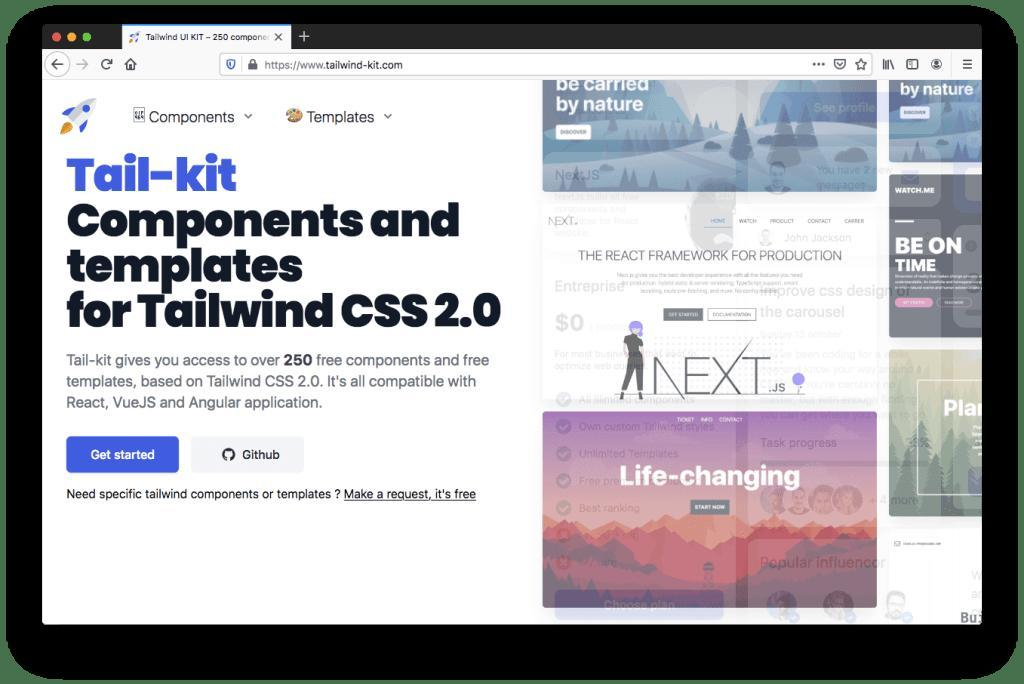button: (68, 436, 181, 475), (193, 438, 305, 474)
icon: (72, 57, 92, 74), (101, 55, 116, 74), (854, 57, 869, 74), (246, 57, 261, 74), (123, 58, 140, 73), (50, 57, 66, 71), (882, 58, 896, 73), (906, 58, 921, 72), (931, 58, 945, 71), (962, 58, 975, 72), (382, 110, 395, 123), (835, 58, 848, 71), (242, 111, 255, 122), (812, 61, 828, 69)
label: (151, 109, 239, 126), (307, 108, 378, 127)
